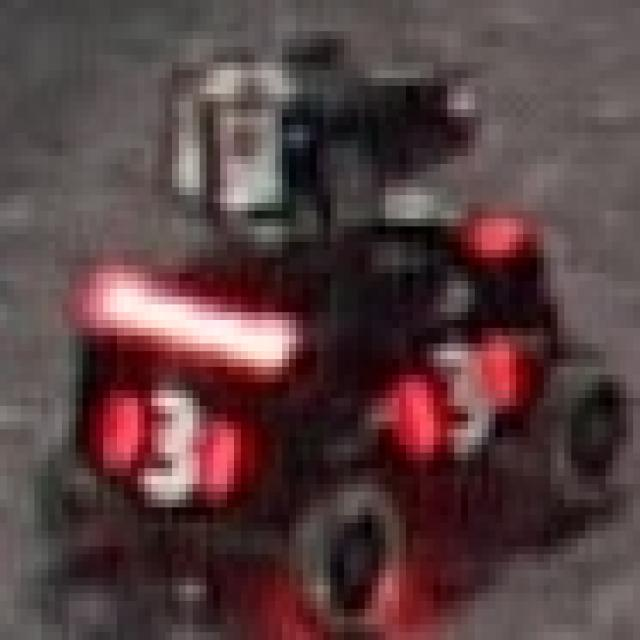R3: (96, 382, 262, 500), (385, 336, 523, 460)
